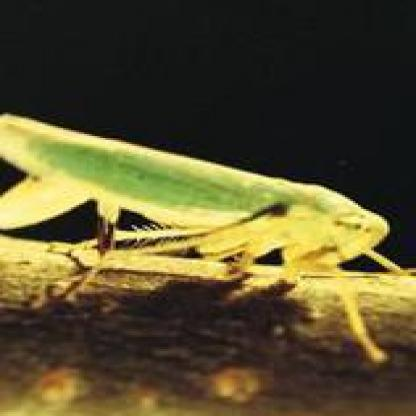Green-Leafhopper: (0, 107, 416, 356)
